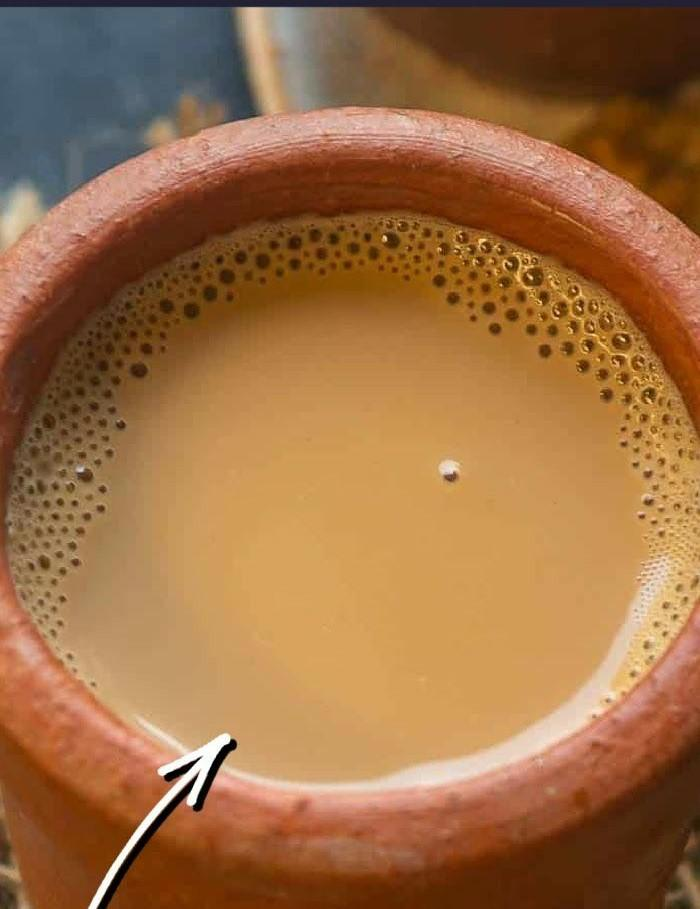Chai: (6, 206, 700, 798)
